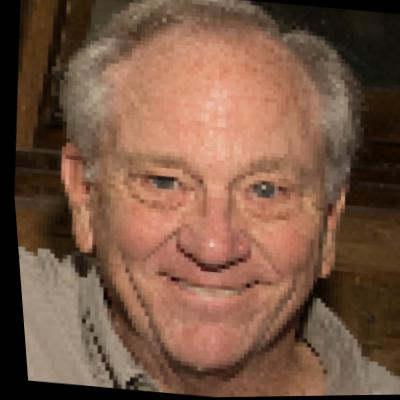happy: (27, 13, 369, 382)
